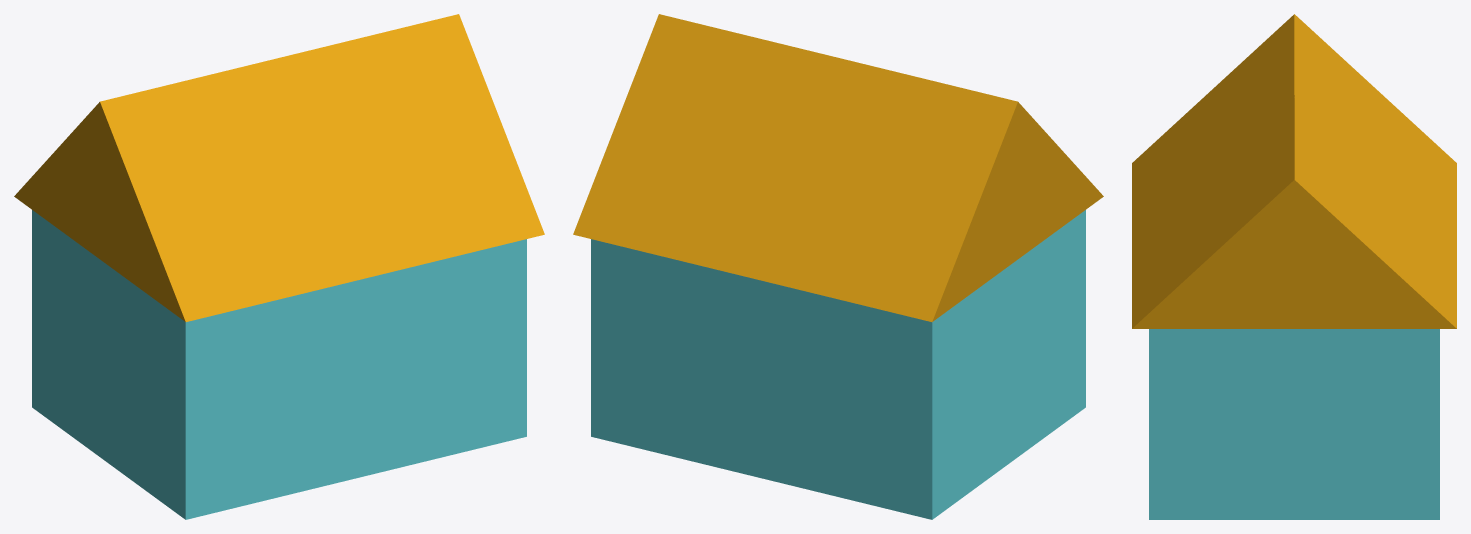
The model's file is SmolHouse.fbx.
The picture shows the model from 3 angles, left to right: view 1: azimuth 30°, elevation 25°; view 2: azimuth 150°, elevation 25°; view 3: azimuth 270°, elevation 25°; orthographic projection. The views are drawn at different scales.
Parts seen in each view (by area): view 1: Cylinder, Cube; view 2: Cylinder, Cube; view 3: Cylinder, Cube.
Boxes of the visible parts, <box> form: Cylinder: <box>14,14,544,321</box>; Cube: <box>32,210,526,519</box>; Cylinder: <box>573,14,1103,321</box>; Cube: <box>591,210,1085,519</box>; Cylinder: <box>1132,14,1456,328</box>; Cube: <box>1149,329,1439,519</box>.
Bounding box in the file's own units: 210 × 204 × 174.
